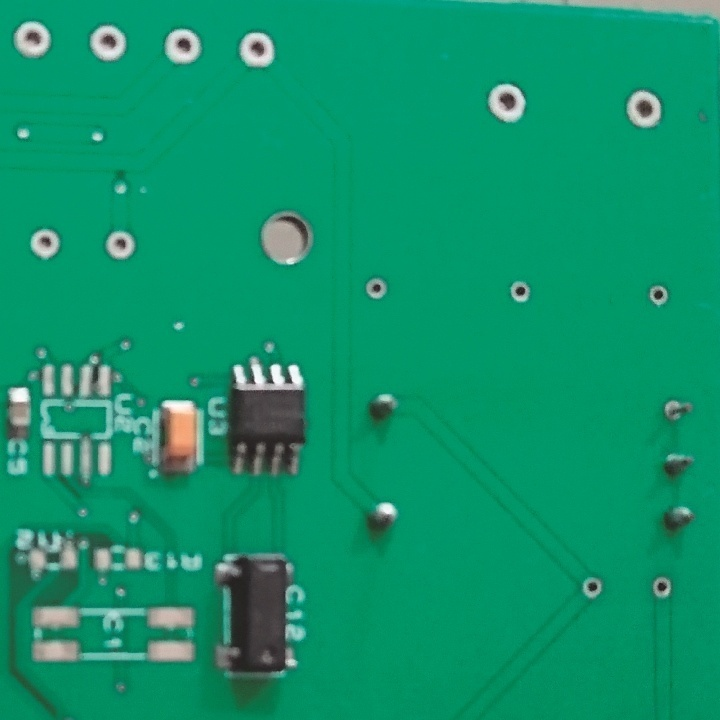F: (481, 78, 535, 126), (621, 85, 667, 132), (161, 26, 206, 71), (233, 31, 279, 72), (84, 20, 127, 63), (16, 20, 57, 59), (29, 224, 70, 263), (99, 227, 139, 263), (661, 395, 697, 424), (642, 281, 673, 312), (506, 277, 534, 310), (575, 575, 607, 602), (361, 274, 389, 304), (649, 574, 677, 602)
